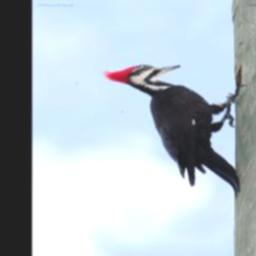Woodpecker: (102, 63, 246, 196)
